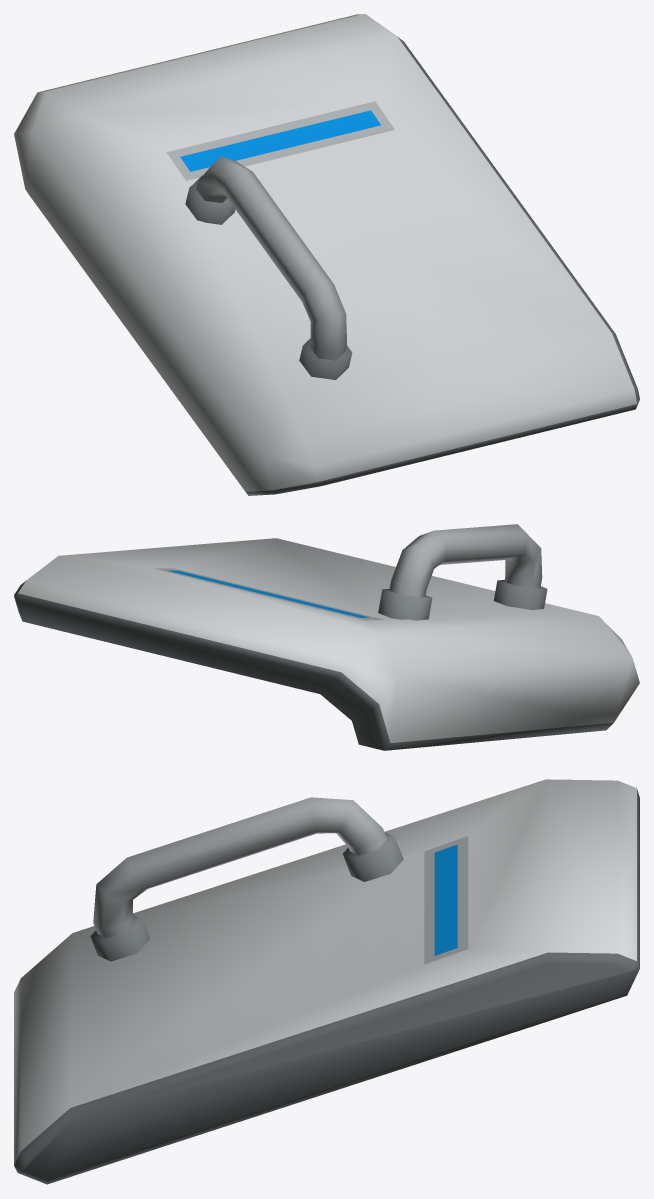
The model's file is Crate_014_cap_001.fbx.
3 views of the same model, one above another, from view 1: azimuth 30°, elevation 25°; view 2: azimuth 150°, elevation 25°; view 3: azimuth 270°, elevation 25° (orthographic). The views are drawn at different scales.
Parts seen in each view (by area): view 1: Crate_014_cap_001; view 2: Crate_014_cap_001; view 3: Crate_014_cap_001.
Part boxes in pixels (x1,y1,x2,y2): Crate_014_cap_001: (14, 14, 639, 495); Crate_014_cap_001: (14, 524, 639, 750); Crate_014_cap_001: (14, 779, 639, 1184).
Bounding box in the file's own units: 52 × 71.2 × 33.88.
